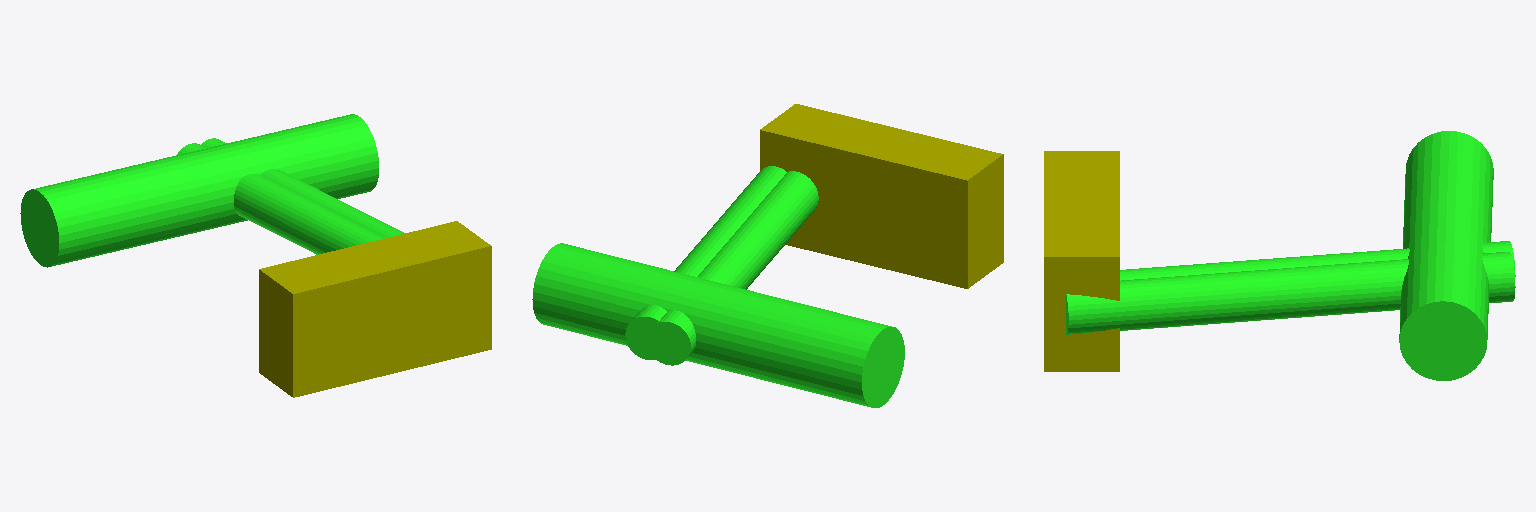
robot.urdf — object:
<?xml version="1.0"?>
<robot name="object">
  <link name="base_link">
    <visual>
      <geometry>
        <mesh filename="textured.obj"/>
      </geometry>
      <material name="white">
        <color rgba="1 0.2 1 0.5"/>
      </material>
    </visual>
    <inertial>
      <mass value="0.02"/>
      <origin rpy="0 0 0" xyz="0.0 0.0 0.0"/>
      <inertia ixx="0.00443333156" ixy="0.0" ixz="0.0" iyy="0.00443333156" iyz="0.0" izz="0.0072"/>
    </inertial>
    <collision>
      <geometry>
        <box size="0.059 0.059 0.199" />
      </geometry>
    </collision>

    <collision>
      <origin xyz="-0.03 -0.03 -0.1" rpy="0 0 0"/>
      <geometry>
        <sphere radius="1e-7"/>
      </geometry>
    </collision>
    <collision>
      <origin xyz="-0.03 0.03 -0.1" rpy="0 0 0"/>
      <geometry>
        <sphere radius="1e-7"/>
      </geometry>
    </collision>
    <collision>
      <origin xyz="0.03 0.03 -0.1" rpy="0 0 0"/>
      <geometry>
        <sphere radius="1e-7"/>
      </geometry>
    </collision>
    <collision>
      <origin xyz="0.03 -0.03 -0.1" rpy="0 0 0"/>
      <geometry>
        <sphere radius="1e-7"/>
      </geometry>
    </collision>

    <collision>
      <origin xyz="-0.03 -0.03 0.1" rpy="0 0 0"/>
      <geometry>
        <sphere radius="1e-7"/>
      </geometry>
    </collision>
    <collision>
      <origin xyz="-0.03 0.03 0.1" rpy="0 0 0"/>
      <geometry>
        <sphere radius="1e-7"/>
      </geometry>
    </collision>
    <collision>
      <origin xyz="0.03 0.03 0.1" rpy="0 0 0"/>
      <geometry>
        <sphere radius="1e-7"/>
      </geometry>
    </collision>
    <collision>
      <origin xyz="0.03 -0.03 0.1" rpy="0 0 0"/>
      <geometry>
        <sphere radius="1e-7"/>
      </geometry>
    </collision>
  </link>


  <link name="cylinder_link">
    <visual>
      <geometry>
        <cylinder radius="0.01" length="0.18"/> 
      </geometry>
      <material name="hhh">
        <color rgba="0.2 1 0.2 1"/>
      </material>
    </visual>
    <collision>
      <geometry>
        <cylinder radius="0.01" length="0.18"/>
      </geometry>
    </collision>
  </link>
  <link name="cylinder_link2">
    <visual>
      <geometry>
        <cylinder radius="0.01" length="0.18"/> 
      </geometry>
      <material name="hhh">
        <color rgba="0.2 1 0.2 1"/>
      </material>
    </visual>
    <collision>
      <geometry>
        <cylinder radius="0.01" length="0.18"/>
      </geometry>
    </collision>
  </link>
  <joint name="scoop_base_joint" type="fixed">
    <parent link="base_link"/>
    <child link="cylinder_link"/>
    <origin rpy="1.57079632679 0 0.175" xyz="0.02 -0.0175 0.0"/>
  </joint>
  <joint name="scoop_base_joint2" type="fixed">
    <parent link="base_link"/>
    <child link="cylinder_link2"/>
    <origin rpy="1.57079632679 0 0.175" xyz="0.03 -0.0175 0.0"/>
  </joint>

  <link name="cylinder_body">
    <visual>
      <geometry>
        <cylinder radius="0.0175" length="0.16"/> 
      </geometry>
      <material name="hhh">
        <color rgba="0.2 1 0.2 1"/>
      </material>
    </visual>
    <collision>
      <geometry>
        <cylinder radius="0.0175" length="0.16"/>
      </geometry>
    </collision>
  </link>

  <joint name="base_to_body" type="fixed">
    <parent link="base_link"/>
    <child link="cylinder_body"/>
    <origin rpy="1.57079632679 0 1.555" xyz="-0.005 0.0455 0.0"/>
  </joint>



  <link name="down_link">
    <visual>
      <geometry>
        <box size="0.1 0.03 0.05"/>
      </geometry>
      <material name="grey">
        <color rgba="0.7 0.7 0 1.0"/>
      </material>
    </visual>
    <collision>
      <geometry>
        <box size="0.1 0.03 0.05"/>
      </geometry>
    </collision>
    <inertial>
      <mass value="0.5"/>
      <origin rpy="0 0 0" xyz="0.0 0.0 0.0"/>
      <inertia ixx="0.0002" ixy="0.0" ixz="0.0" iyy="0.0002" iyz="0.0" izz="0.0004"/>
    </inertial>
  </link>
  <joint name="base_to_down" type="fixed">
    <parent link="base_link"/>
    <child link="down_link"/>
    <origin rpy="0 0 0" xyz="-0.00 -0.099 0.0"/>
  </joint>
</robot>

--- Render facts (derived) ---
3 views of the same robot in one strip: view 1: azimuth 30°, elevation 25°; view 2: azimuth 150°, elevation 25°; view 3: azimuth 270°, elevation 25° (orthographic).
Model object with 5 links and 4 joints (4 fixed), rooted at base_link, posed every joint at zero.
Links seen in each view (by area): view 1: down_link, cylinder_body, cylinder_link, cylinder_link2; view 2: down_link, cylinder_body, cylinder_link, cylinder_link2; view 3: cylinder_body, cylinder_link2, down_link, cylinder_link.
Boxes of the visible links, x1,y1,x2,y2 form: down_link: (259,221,491,397); cylinder_body: (20,114,378,267); cylinder_link: (177,143,384,254); cylinder_link2: (201,138,404,237); down_link: (760,104,1003,288); cylinder_body: (532,243,904,407); cylinder_link: (646,171,818,365); cylinder_link2: (625,166,786,359); cylinder_body: (1399,131,1493,380); cylinder_link2: (1066,252,1515,334); down_link: (1044,151,1119,371); cylinder_link: (1120,241,1515,280).
Bounding box of the posed robot: 0.1605 × 0.1869 × 0.05 m (x, y, z).
0 mesh visuals loaded from 1 distinct referenced files (none loaded); not drawn: 1 (reference not matched to a file when rendering).